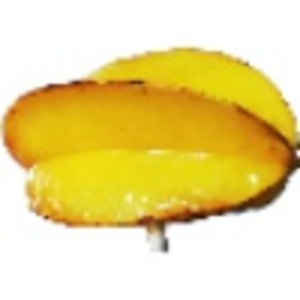carambola: (1, 44, 300, 251)
